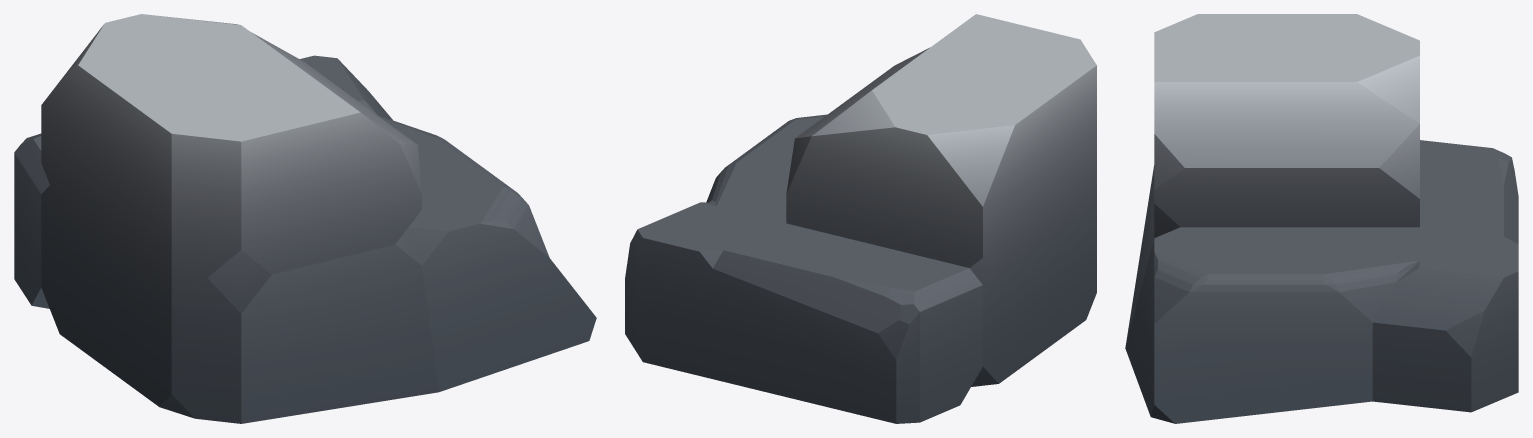
Rendered from rocks maya.fbx.
3 views of the same model, side by side, from view 1: azimuth 30°, elevation 25°; view 2: azimuth 150°, elevation 25°; view 3: azimuth 270°, elevation 25° (orthographic). The views are drawn at different scales.
Visible parts, largest first — view 1: Cube; view 2: Cube; view 3: Cube.
Boxes of the visible parts, x1=… form: Cube: x1=14, y1=14, x2=596, y2=423; Cube: x1=625, y1=14, x2=1096, y2=423; Cube: x1=1125, y1=14, x2=1518, y2=423.
Size of the model in its own units: 11.46 by 7.61 by 11.26.
Materials: 1 (1 with a texture image).
